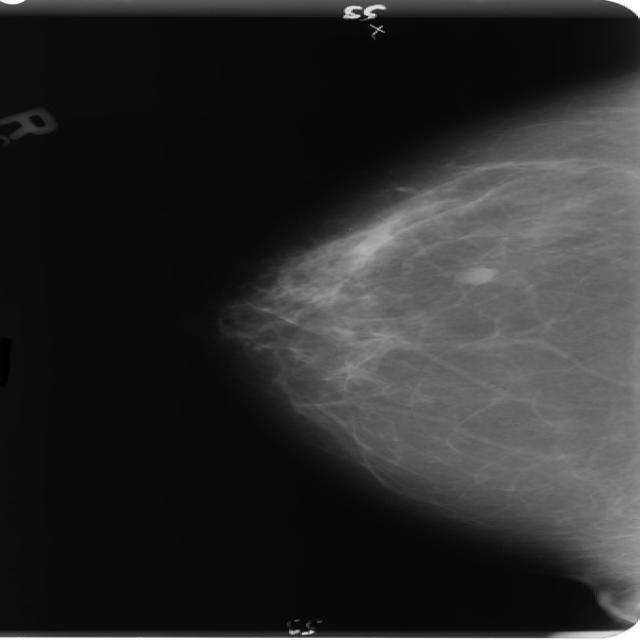tumour: (451, 265, 494, 284)
